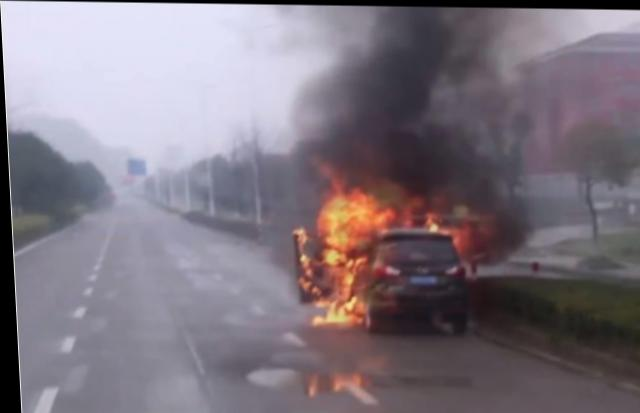fire: (289, 169, 479, 328)
